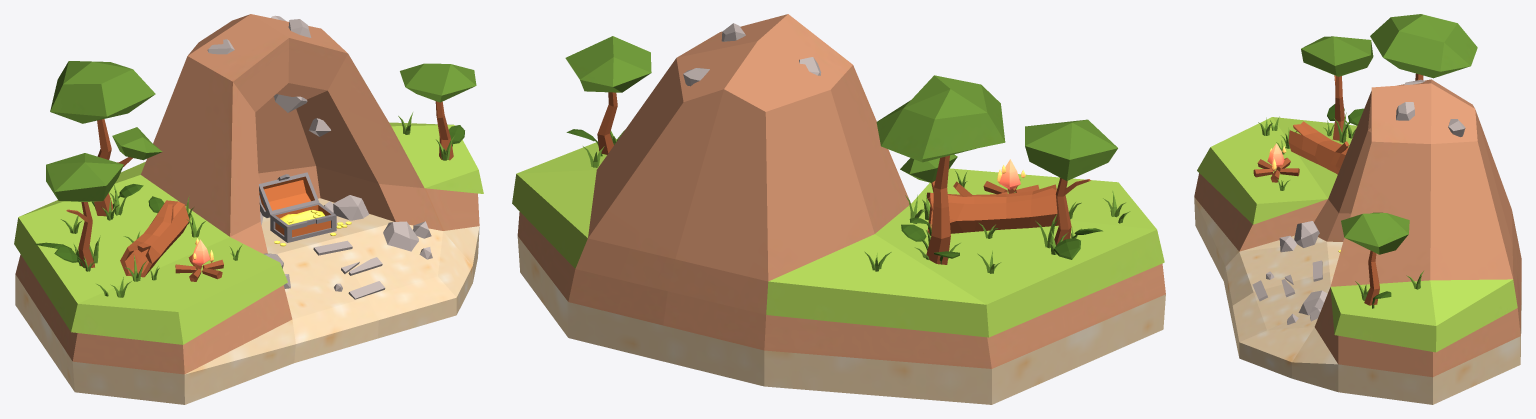
Rendered from Tiny_beach_island.glb.
3 views of the same model, side by side, from view 1: azimuth 30°, elevation 25°; view 2: azimuth 150°, elevation 25°; view 3: azimuth 270°, elevation 25° (orthographic). The views are drawn at different scales.
Visible parts, largest first — view 1: polySurface2820_island01_0; view 2: polySurface2820_island01_0; view 3: polySurface2820_island01_0.
Boxes of the visible parts, x1,y1,x2,y2 form: polySurface2820_island01_0: [14, 14, 483, 404]; polySurface2820_island01_0: [512, 14, 1165, 404]; polySurface2820_island01_0: [1194, 14, 1521, 404].
Bounding box in the file's own units: 0.7322 × 0.3668 × 0.4741.
1 material, 1 textured.
